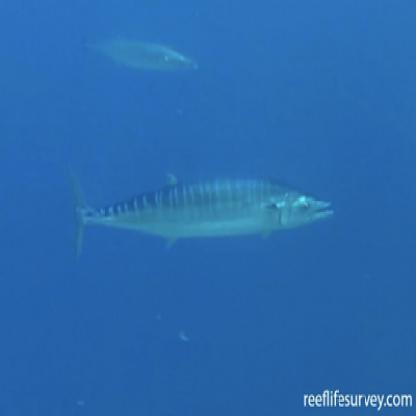Scombridae -Tunas-: (59, 158, 342, 263)
